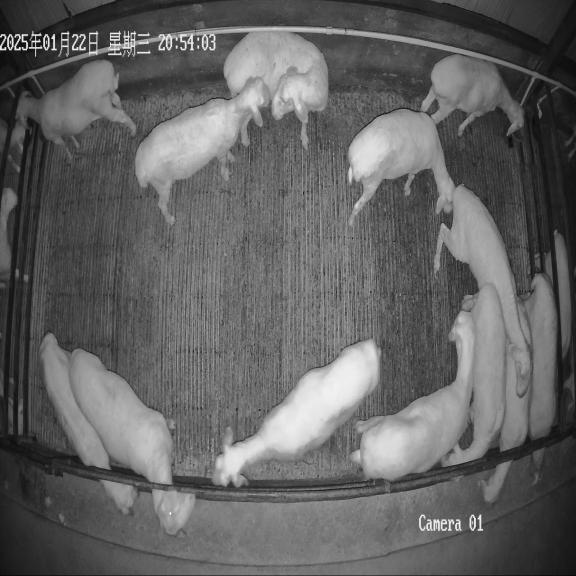drinking: (16, 60, 136, 162), (421, 54, 523, 136)
eating: (69, 349, 195, 535), (39, 333, 138, 514), (480, 298, 532, 503), (524, 273, 558, 485)
stand: (213, 339, 381, 487), (351, 307, 475, 481), (434, 184, 532, 397), (135, 79, 269, 224), (347, 108, 454, 225), (223, 31, 328, 148), (441, 283, 506, 467)
